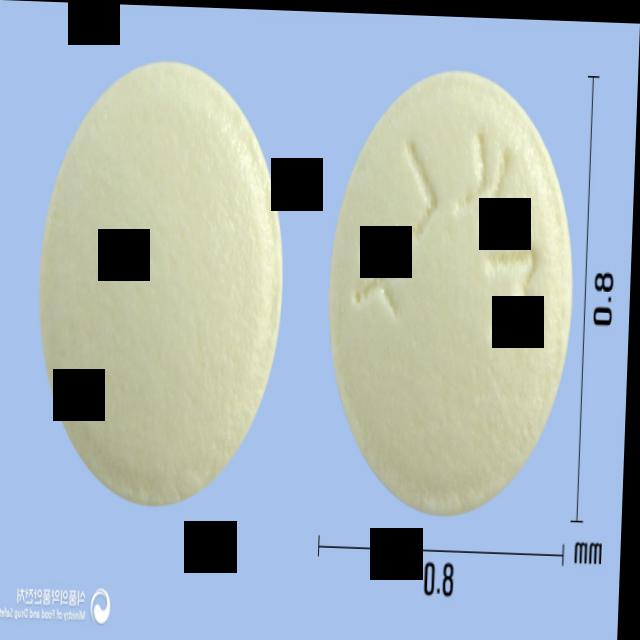Lerocin: (322, 59, 582, 514), (33, 52, 292, 507)
